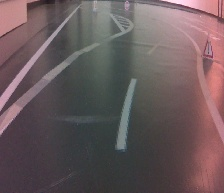warning sign: (199, 32, 215, 60)
